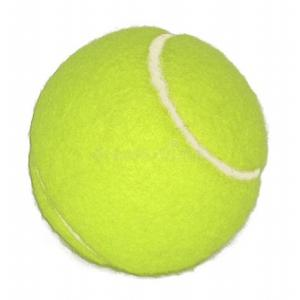Tennis: (28, 24, 274, 280)
